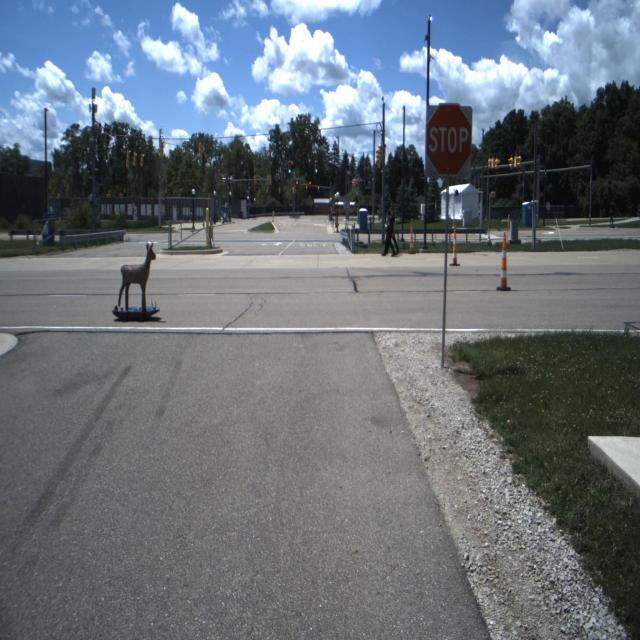Deer: (118, 242, 156, 306)
